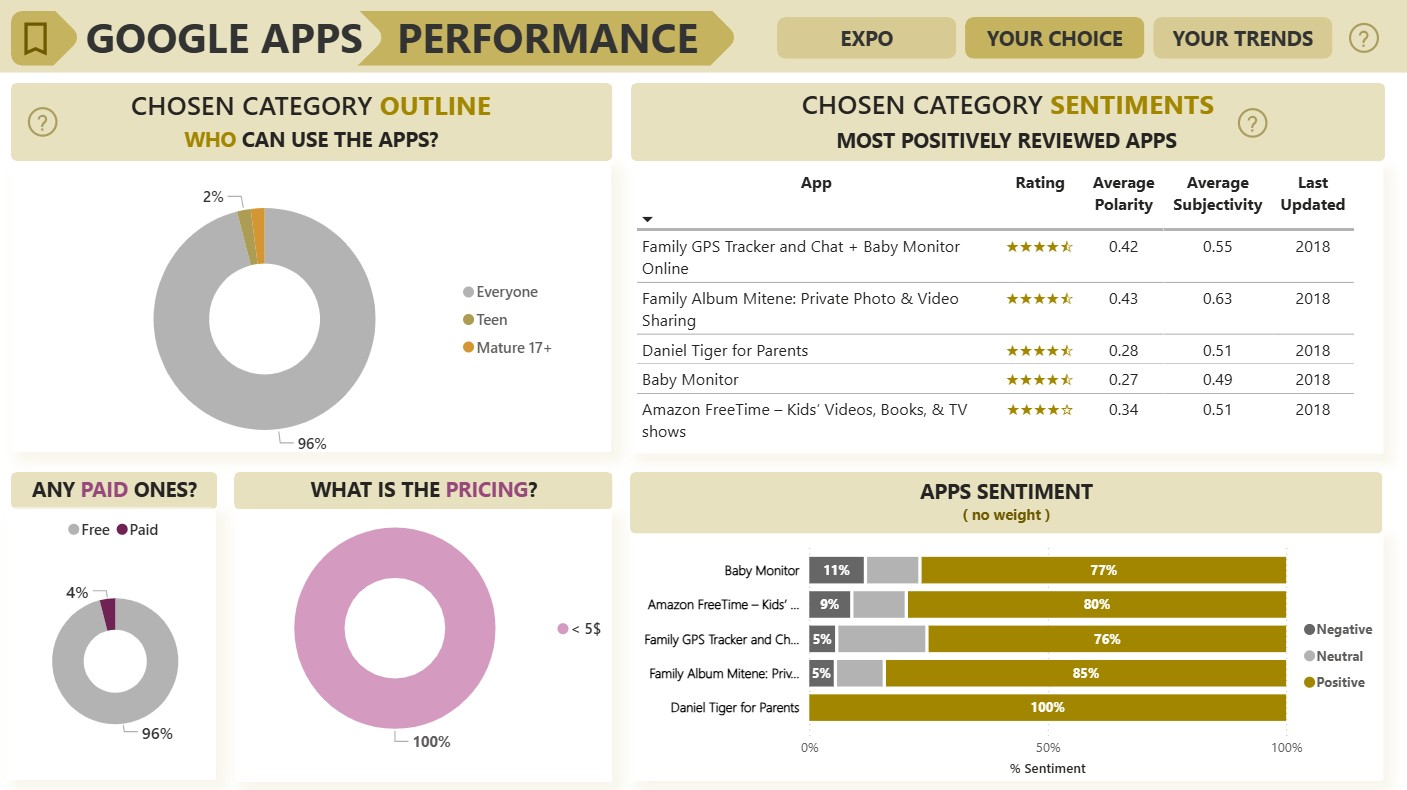

Layout of this report page (visuals, bound fields, positions):
{"tool":"powerbi","page":{"name":"YOUR CHOICE","canvas":[1280,720],"ordinal":1},"visuals":[{"type":"shape","title":"Backplot shape","box":[574.3,482.7,683.1,227.3],"z":500,"group":"g1"},{"type":"shape","title":"Left subsubtitle 3 shape","box":[212,429,344.4,33.9],"z":1000,"group":"g2"},{"type":"hundredPercentStackedBarChart","title":"APPS SENTIMENT","fields":{"Category":["dim_App.App"],"Y":["_Measures.% Sentiment Neg normalized","_Measures.% Sentiment Neut normalized","_Measures.% Sentiment Pos normalized"]},"box":[573,482.2,684.5,226],"z":1000,"group":"g1"},{"type":"shape","title":"Backplot shape","box":[213.3,463.3,342.6,247],"z":1500,"group":"g2"},{"type":"donutChart","title":"WHAT IS THE PRCING RANGE?","fields":{"Category":["dim_App.Price USD range"],"Y":["_Measures.Total Count of Apps"]},"box":[212.7,426.2,342.6,284.4],"z":2000,"group":"g2"},{"type":"shape","title":"Right subsubtitle 2 shape","box":[573,429,684.2,56],"z":2000,"group":"g1"},{"type":"shape","title":"Top background shape","box":[0,0,1280,66.2],"z":3000,"group":"g3"},{"type":"textbox","title":"Left subsubtitle 3: What is the pricing?","box":[213,430.1,343.3,33.9],"z":3000,"group":"g2"},{"type":"textbox","title":"Right subsubtitle 2: Most positively reviewed apps","box":[573,432,684.2,53],"z":3000,"group":"g1"},{"type":"shape","title":"Backplot shape","box":[574.3,147.6,683.1,264],"z":3500,"group":"g1"},{"type":"shape","title":"Top foreground shape","box":[9.9,9.9,682.6,49.7],"z":4000,"group":"g3"},{"type":"tableEx","title":"Table","fields":{"Values":["dim_App.App","_Measures.Indiv Rating in stars","_Measures.Indiv Avg Sentiment Polar","_Measures.Indiv Avg Sentiment Subject","dim_Date.Year"]},"box":[573,146.7,684.5,265.1],"z":4000,"group":"g1"},{"type":"shape","title":"Left subsubtitle 2 shape","box":[9.6,429,187.5,33.9],"z":4000,"group":"g2"},{"type":"actionButton","title":"Top question button","box":[1220.4,15.6,39.7,38.3],"z":4250,"group":"g3"},{"type":"shape","title":"Background shape","box":[0,66.5,1280,653.1],"z":4500},{"type":"shape","title":"Backplot shape","box":[6,461,189.6,247.8],"z":4500,"group":"g2"},{"type":"shape","title":"Arrow shape 2","box":[42.4,3,308.3,62.5],"z":4750,"group":"g3"},{"type":"shape","title":"Arrow shape 1","box":[640,3,77.4,62.5],"z":4812,"group":"g3"},{"type":"pageNavigator","box":[706.4,15.8,506.5,38.2],"z":4875,"group":"g3"},{"type":"textbox","title":"Top title text","box":[9.9,3,682.6,62.4],"z":5000,"group":"g3"},{"type":"group","id":"g1","title":"RIGHT SECTION","box":[573,75.3,686.6,634.7],"z":5000},{"type":"shape","title":"Right subtitle 1 shape","box":[574.1,75.6,685.6,71],"z":5000,"group":"g1"},{"type":"donutChart","title":"ANY PAID APPS?","fields":{"Category":["dim_App.Type"],"Y":["_Measures.Total Count of Apps"]},"box":[9.7,461,189.6,246.7],"z":5000,"group":"g2"},{"type":"textbox","title":"Right subsubtitle 1: Most positively reviewed apps","box":[573.3,112.8,684.6,35],"z":6000,"group":"g1"},{"type":"textbox","title":"Left subsubtitle 2: Any paid ones?","box":[8.5,430.1,189.7,32.8],"z":6000,"group":"g2"},{"type":"shape","title":"Backplot shape","box":[10.3,146.6,545.2,265.1],"z":6500,"group":"g2"},{"type":"group","id":"g2","title":"LEFT SECTION","box":[6,75.3,550.3,635.3],"z":7000},{"type":"textbox","title":"Right subtitle: Chosen category sentiments","box":[573.5,75.3,685.4,36.4],"z":7000,"group":"g1"},{"type":"donutChart","title":"WHO CAN USE THE APPS?","fields":{"Category":["dim_App.Content Rating"],"Y":["_Measures.Total Count of Apps"]},"box":[60.1,146.8,451.2,285.5],"z":7000,"group":"g2"},{"type":"shape","title":"Left subsubtitle 1 shape","box":[9.3,75.3,546.7,70.8],"z":8000,"group":"g2"},{"type":"actionButton","title":"Right question button","box":[1120.2,92.9,37.6,38.8],"z":8000,"group":"g1"},{"type":"group","id":"g3","title":"TOP SECTION","box":[0,0,1280,66.2],"z":9000},{"type":"textbox","title":"Left subsubtitle 1: Who can use the apps?","box":[10.1,111.8,545.9,35],"z":9000,"group":"g2"},{"type":"textbox","title":"Left subtitle: Chosen category outline","box":[8.8,75.8,547.3,35.5],"z":10000,"group":"g2"},{"type":"actionButton","title":"PANEL TURN ON","box":[13,15,41.2,39.4],"z":11000},{"type":"actionButton","title":"Left question button","box":[19.5,91.8,37.6,38.8],"z":11000,"group":"g2"}]}

Visuals, with their boxes in screenshot pixels (x1, y1, x2, y2), scaled from the page's 1280x720 canvas onto the 1407x790 screenshot:
"Backplot shape" shape: x1=631 y1=530 x2=1382 y2=779
"Left subsubtitle 3 shape" shape: x1=233 y1=471 x2=612 y2=508
"APPS SENTIMENT" hundredPercentStackedBarChart: x1=630 y1=529 x2=1382 y2=777
"Backplot shape" shape: x1=234 y1=508 x2=611 y2=779
"WHAT IS THE PRCING RANGE?" donutChart: x1=234 y1=468 x2=610 y2=780
"Right subsubtitle 2 shape" shape: x1=630 y1=471 x2=1382 y2=532
"Top background shape" shape: x1=0 y1=0 x2=1406 y2=73
"Left subsubtitle 3: What is the pricing?" textbox: x1=234 y1=472 x2=611 y2=509
"Right subsubtitle 2: Most positively reviewed apps" textbox: x1=630 y1=474 x2=1382 y2=532
"Backplot shape" shape: x1=631 y1=162 x2=1382 y2=452
"Top foreground shape" shape: x1=11 y1=11 x2=761 y2=65
"Table" tableEx: x1=630 y1=161 x2=1382 y2=452
"Left subsubtitle 2 shape" shape: x1=11 y1=471 x2=217 y2=508
"Top question button" actionButton: x1=1341 y1=17 x2=1385 y2=59
"Background shape" shape: x1=0 y1=73 x2=1406 y2=789
"Backplot shape" shape: x1=7 y1=506 x2=215 y2=778
"Arrow shape 2" shape: x1=47 y1=3 x2=385 y2=72
"Arrow shape 1" shape: x1=704 y1=3 x2=789 y2=72
pageNavigator: x1=776 y1=17 x2=1333 y2=59
"Top title text" textbox: x1=11 y1=3 x2=761 y2=72
"RIGHT SECTION" group: x1=630 y1=83 x2=1385 y2=779
"Right subtitle 1 shape" shape: x1=631 y1=83 x2=1385 y2=161
"ANY PAID APPS?" donutChart: x1=11 y1=506 x2=219 y2=777
"Right subsubtitle 1: Most positively reviewed apps" textbox: x1=630 y1=124 x2=1383 y2=162
"Left subsubtitle 2: Any paid ones?" textbox: x1=9 y1=472 x2=218 y2=508
"Backplot shape" shape: x1=11 y1=161 x2=611 y2=452
"LEFT SECTION" group: x1=7 y1=83 x2=611 y2=780
"Right subtitle: Chosen category sentiments" textbox: x1=630 y1=83 x2=1384 y2=123
"WHO CAN USE THE APPS?" donutChart: x1=66 y1=161 x2=562 y2=474
"Left subsubtitle 1 shape" shape: x1=10 y1=83 x2=611 y2=160
"Right question button" actionButton: x1=1231 y1=102 x2=1273 y2=145
"TOP SECTION" group: x1=0 y1=0 x2=1406 y2=73
"Left subsubtitle 1: Who can use the apps?" textbox: x1=11 y1=123 x2=611 y2=161
"Left subtitle: Chosen category outline" textbox: x1=10 y1=83 x2=611 y2=122
"PANEL TURN ON" actionButton: x1=14 y1=16 x2=60 y2=60
"Left question button" actionButton: x1=21 y1=101 x2=63 y2=143
